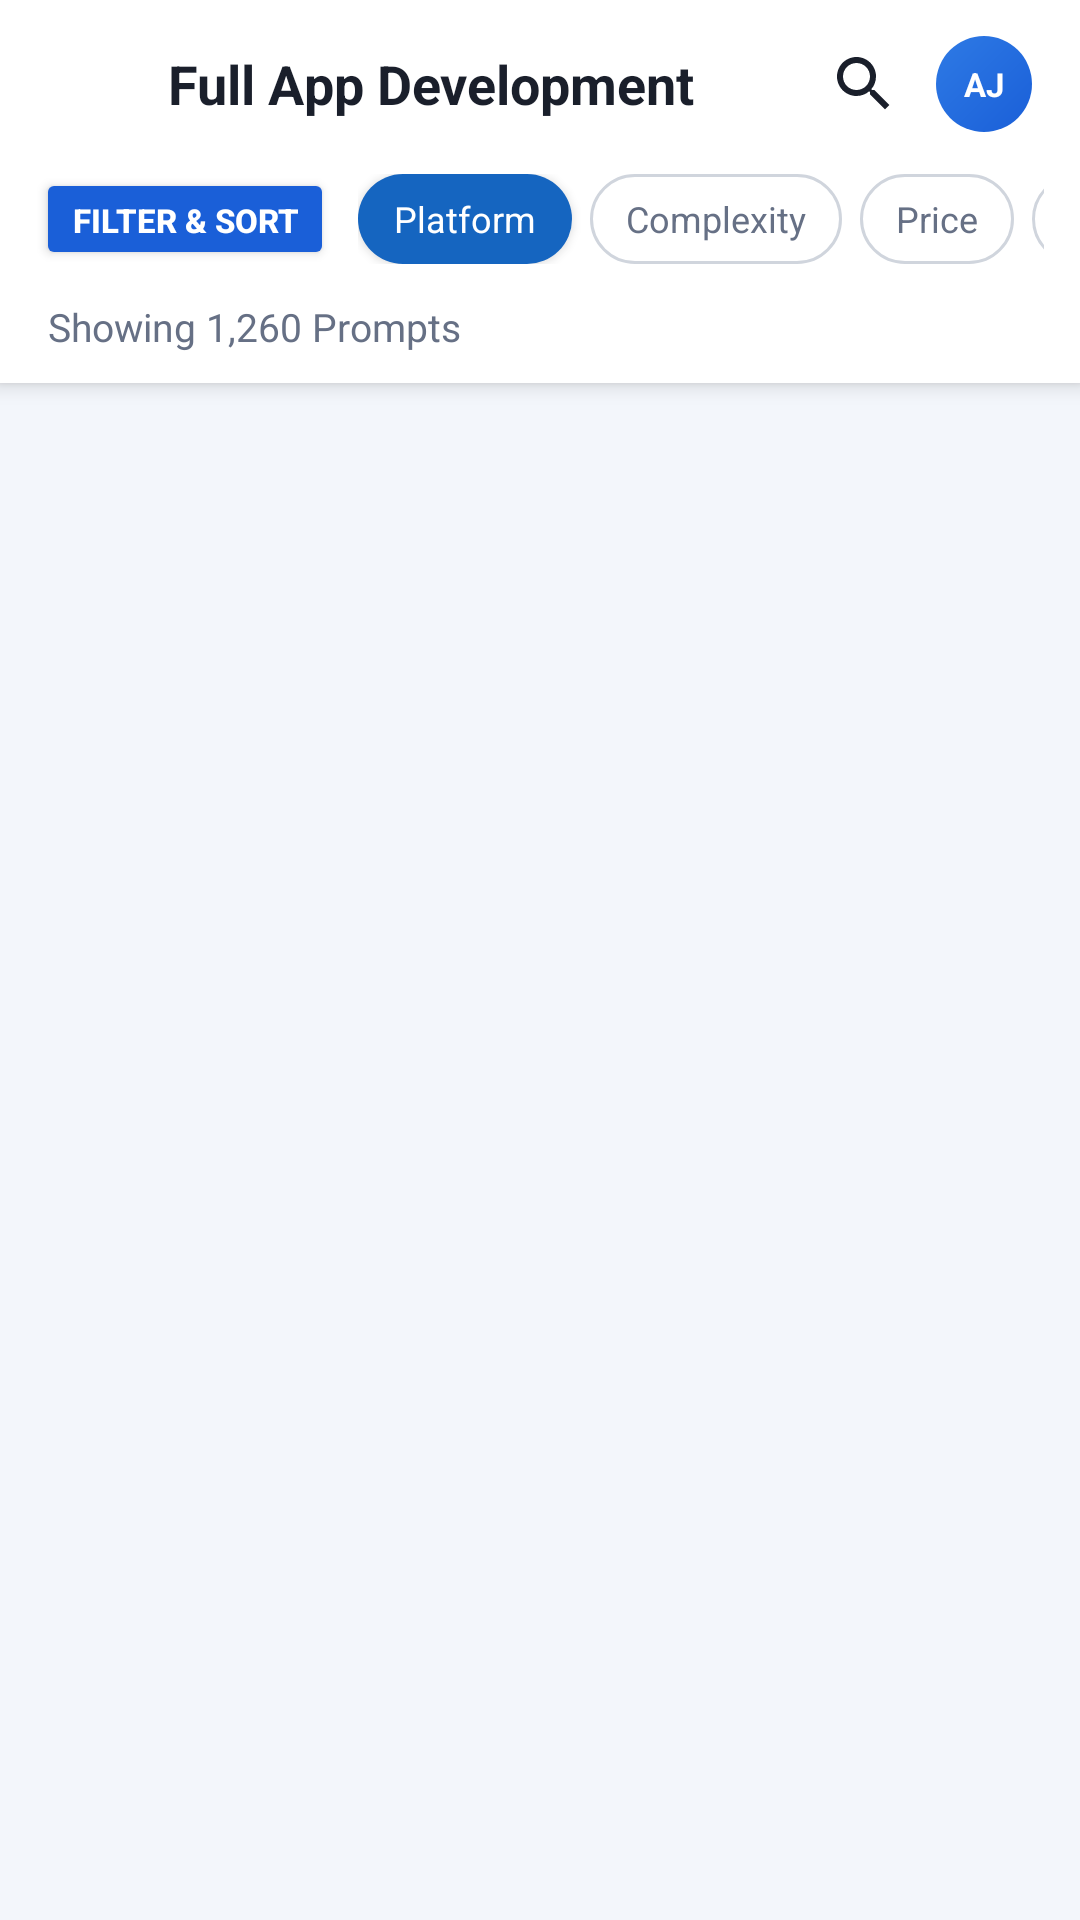

Icons on this 1080 x 1920 Android screen, each with its box as (x1, y1, x2, y2):
Search: (837, 57, 889, 109)
